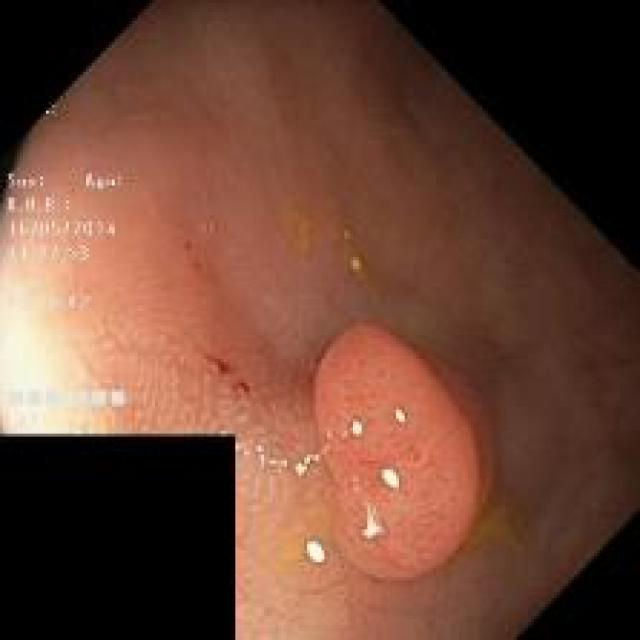Polyps: (315, 324, 498, 583)
